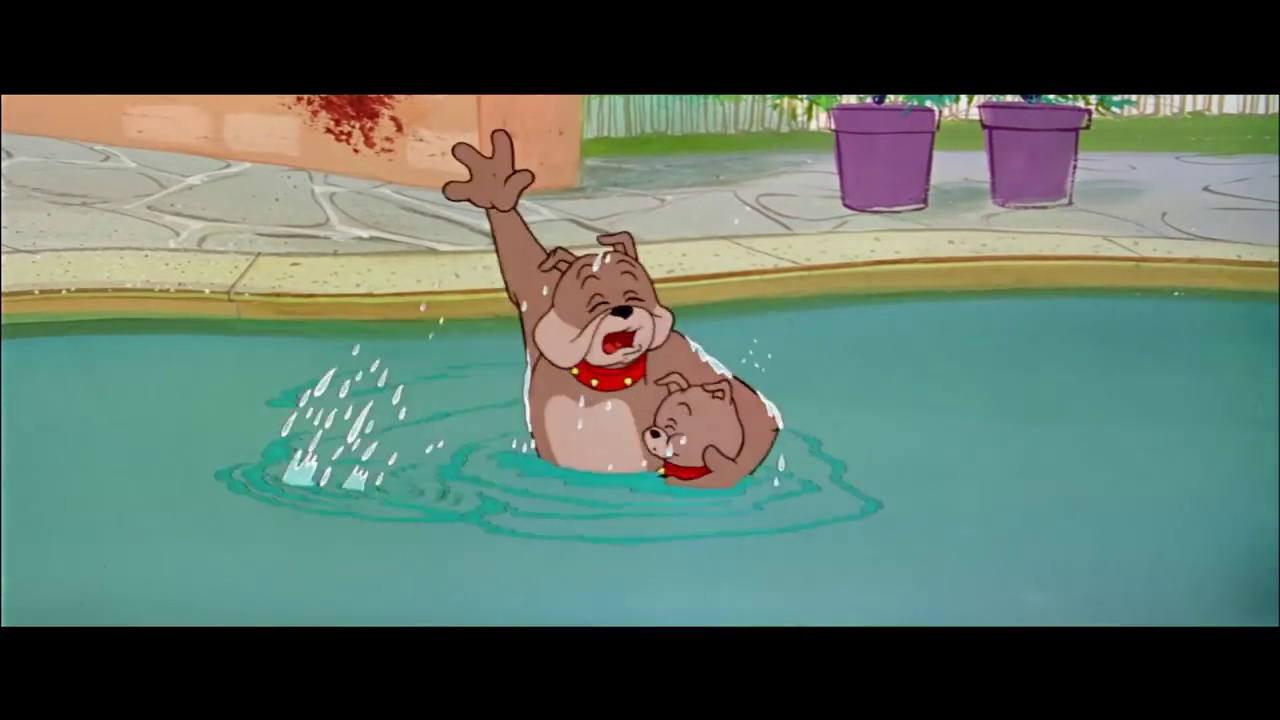spike: (532, 220, 684, 384)
